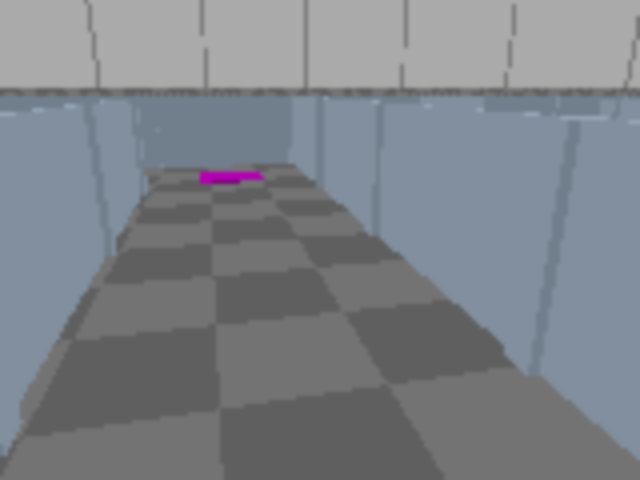goal_zone: (200, 170, 264, 184)
